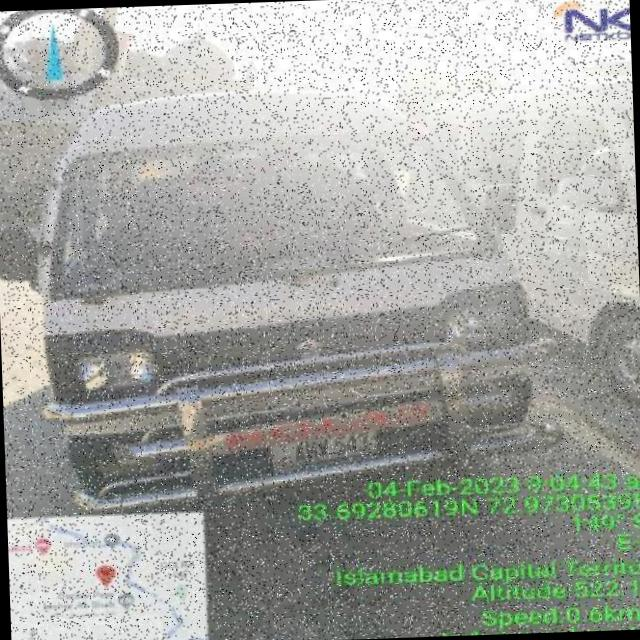LicensePlate: (278, 427, 386, 471)
